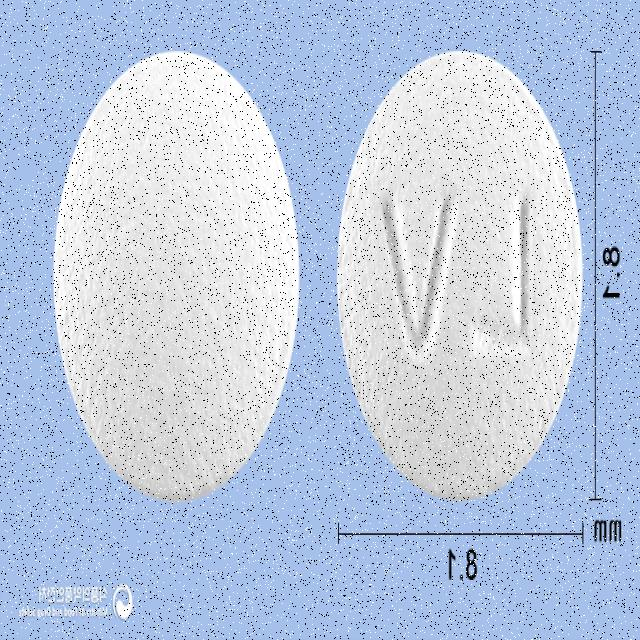Levobay: (332, 48, 586, 504), (52, 49, 300, 502)
